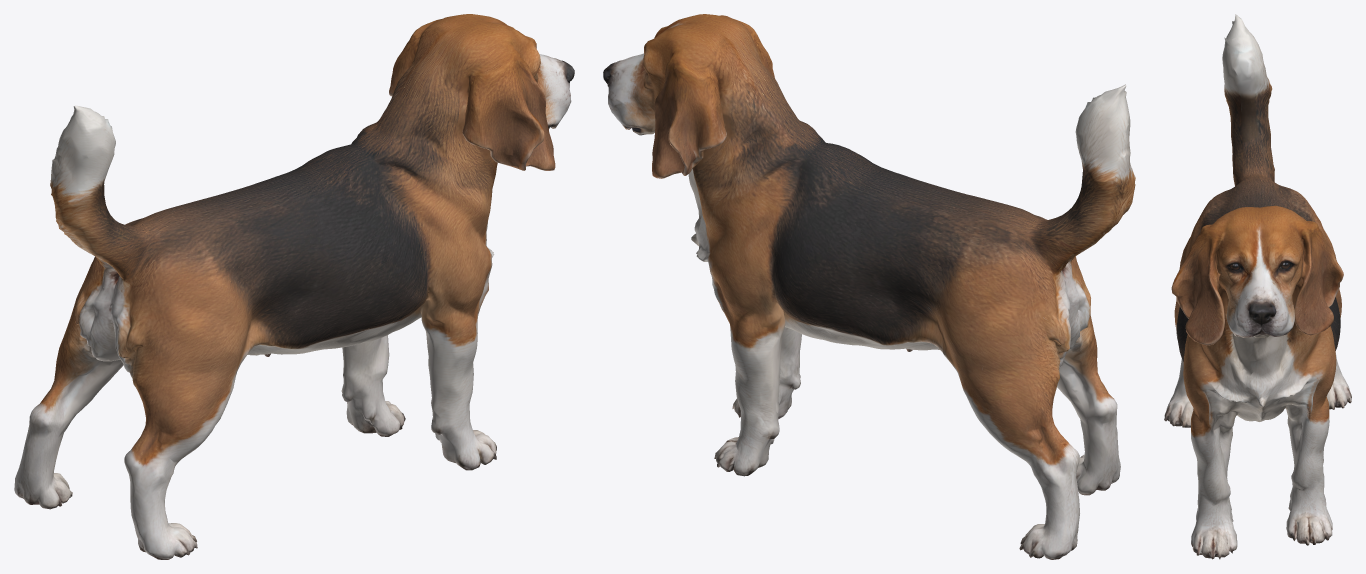
The model's file is beagle.glb.
3 views of the same model, side by side, from view 1: azimuth 30°, elevation 25°; view 2: azimuth 150°, elevation 25°; view 3: azimuth 270°, elevation 25° (orthographic). The views are drawn at different scales.
Parts seen in each view (by area): view 1: tripo_node_9ed9ba1c-0a86-4797-9537-1177eb223416; view 2: tripo_node_9ed9ba1c-0a86-4797-9537-1177eb223416; view 3: tripo_node_9ed9ba1c-0a86-4797-9537-1177eb223416.
Boxes of the visible parts, x1,y1,x2,y2 form: tripo_node_9ed9ba1c-0a86-4797-9537-1177eb223416: (14,14,574,559); tripo_node_9ed9ba1c-0a86-4797-9537-1177eb223416: (603,14,1135,559); tripo_node_9ed9ba1c-0a86-4797-9537-1177eb223416: (1164,14,1351,559).
Bounding box in the file's own units: 1 × 0.8066 × 0.3615.
1 material, 1 textured.
